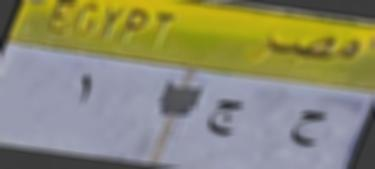1: (76, 65, 97, 110)
7aa: (288, 100, 326, 152)
jeem: (205, 91, 244, 138)
